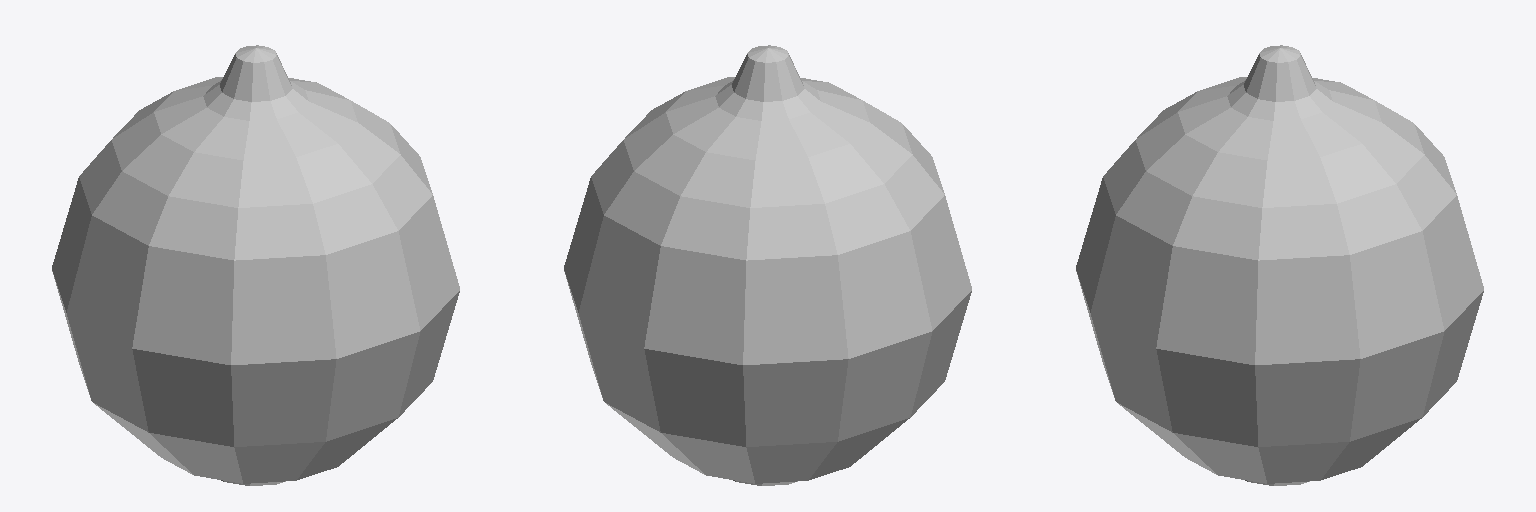
Rendered from Cebolla.obj.
The picture shows the model from 3 angles: view 1: azimuth 30°, elevation 25°; view 2: azimuth 150°, elevation 25°; view 3: azimuth 270°, elevation 25°; orthographic projection.
Parts seen in each view (by area): view 1: Cebolla.001_onion.000; view 2: Cebolla.001_onion.000; view 3: Cebolla.001_onion.000.
Boxes of the visible parts, x1=… form: Cebolla.001_onion.000: x1=52, y1=45, x2=459, y2=485; Cebolla.001_onion.000: x1=564, y1=45, x2=971, y2=485; Cebolla.001_onion.000: x1=1076, y1=45, x2=1483, y2=485.
Bounding box in the file's own units: 0.1452 × 0.1629 × 0.1452.